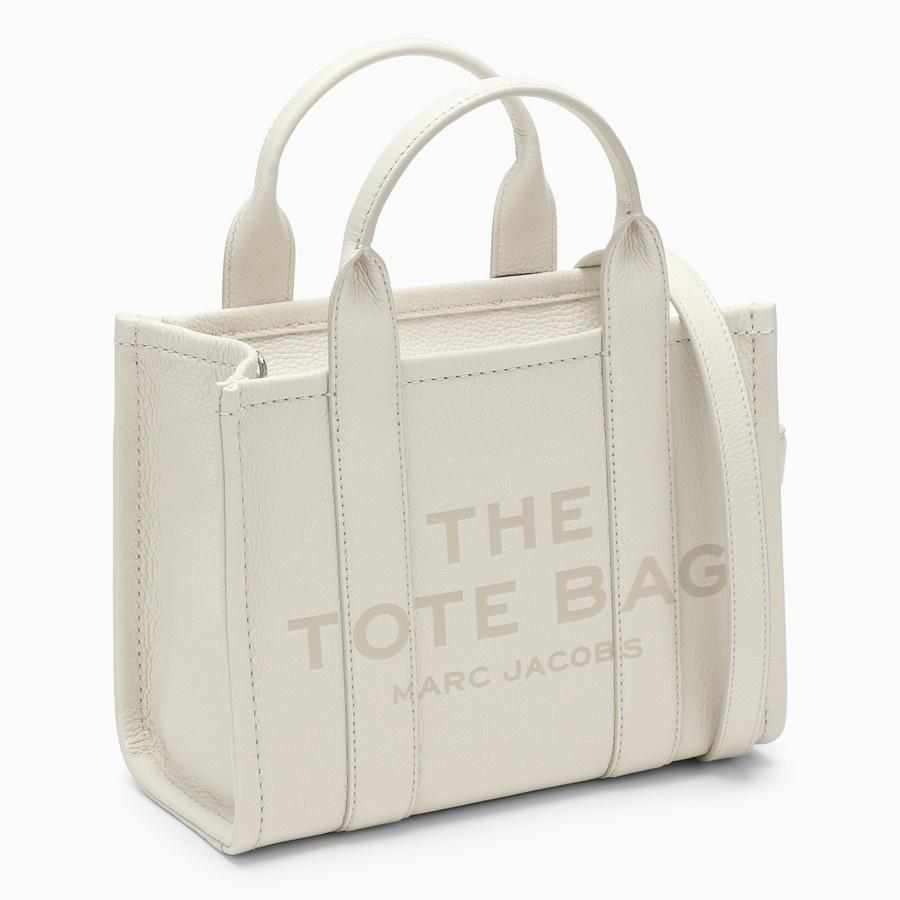MARC-JACOBS: (393, 637, 643, 705)
